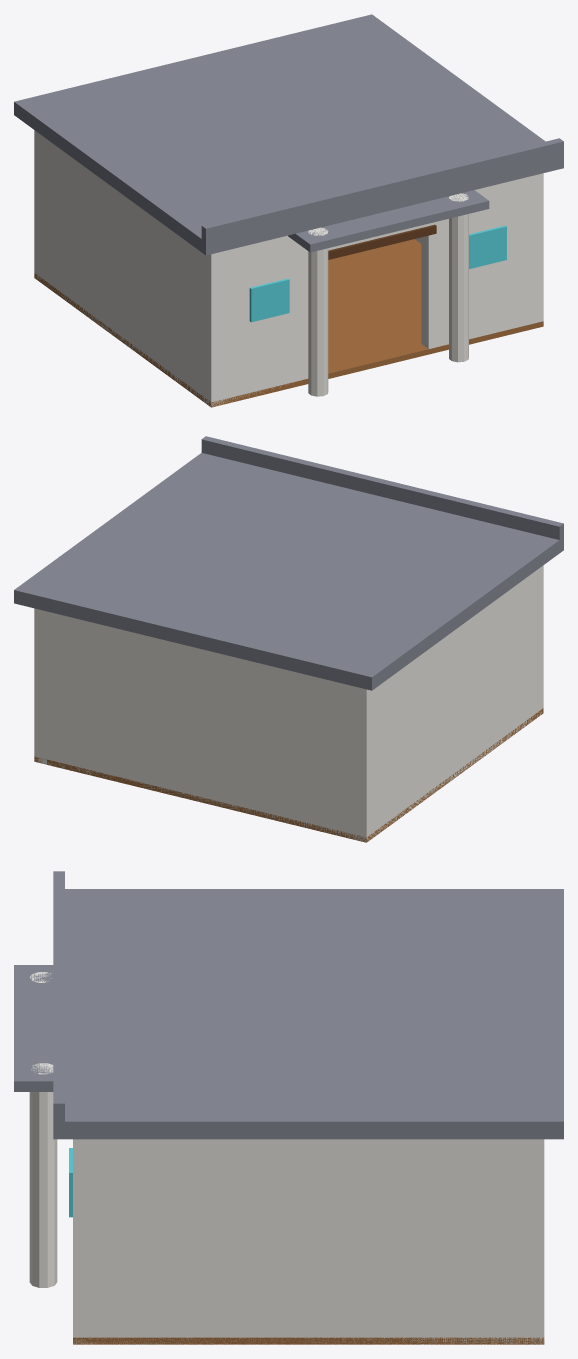
Rendered from mdl_casa_z4.fbx.
3 renders of one model, top to bottom at view 1: azimuth 30°, elevation 25°; view 2: azimuth 150°, elevation 25°; view 3: azimuth 270°, elevation 25°, orthographic. The views are drawn at different scales.
Visible parts, largest first — view 1: mdl_casa_z4; view 2: mdl_casa_z4; view 3: mdl_casa_z4.
Boxes of the visible parts, x1=… form: mdl_casa_z4: x1=14, y1=14, x2=563, y2=407; mdl_casa_z4: x1=14, y1=436, x2=563, y2=842; mdl_casa_z4: x1=14, y1=871, x2=563, y2=1344.
Size of the model in its own units: 2800 by 1400 by 2800.
